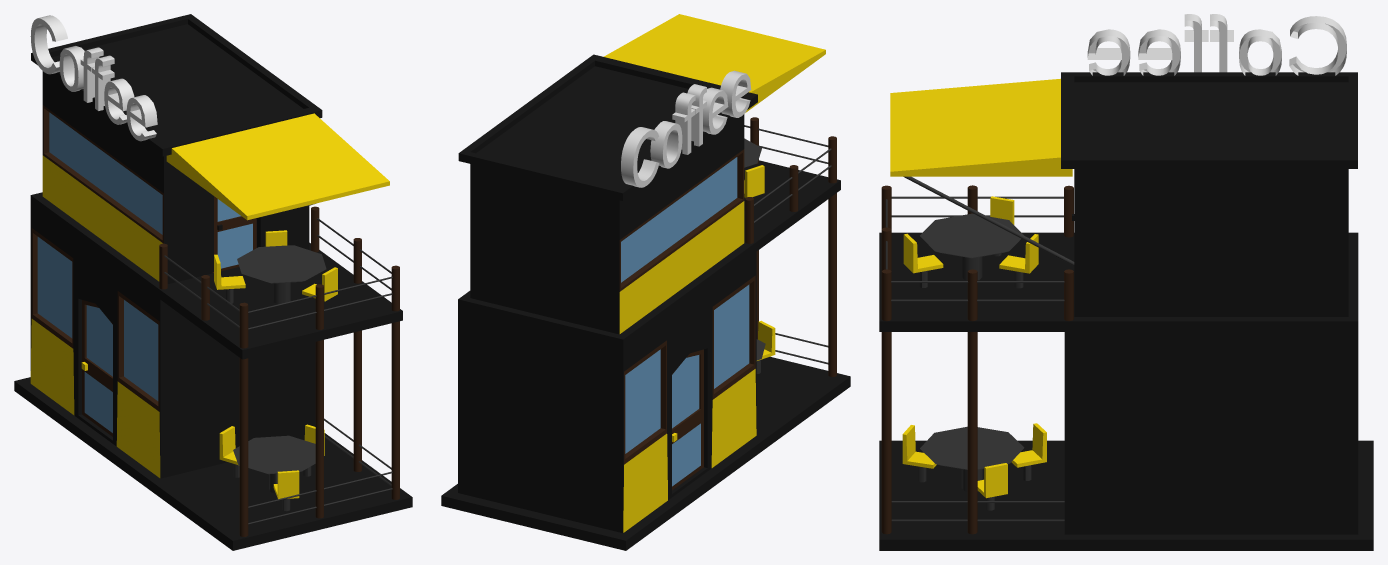
The model's file is Shop_Coffee_A.fbx.
3 renders of one model, left to right at view 1: azimuth 30°, elevation 25°; view 2: azimuth 150°, elevation 25°; view 3: azimuth 270°, elevation 25°, orthographic. The views are drawn at different scales.
Parts seen in each view (by area): view 1: Shop_Coffee_A; view 2: Shop_Coffee_A; view 3: Shop_Coffee_A.
Boxes of the visible parts, x1=… form: Shop_Coffee_A: x1=14, y1=14, x2=412, y2=550; Shop_Coffee_A: x1=441, y1=14, x2=850, y2=550; Shop_Coffee_A: x1=879, y1=14, x2=1373, y2=550.
Bounding box in the file's own units: 65.36 × 135 × 138.
